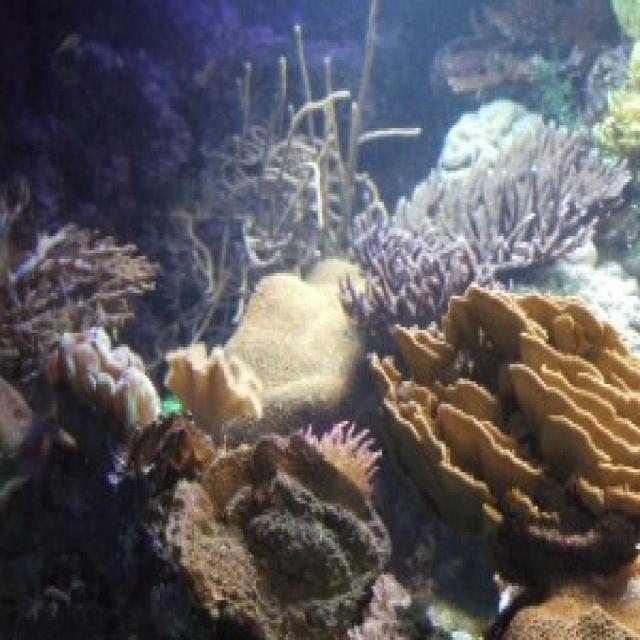Bleached: (229, 260, 362, 436), (165, 345, 261, 428)
Healthy: (372, 285, 639, 638), (161, 1, 421, 339), (357, 118, 628, 311), (170, 433, 389, 638), (1, 223, 157, 379), (50, 328, 159, 425)
